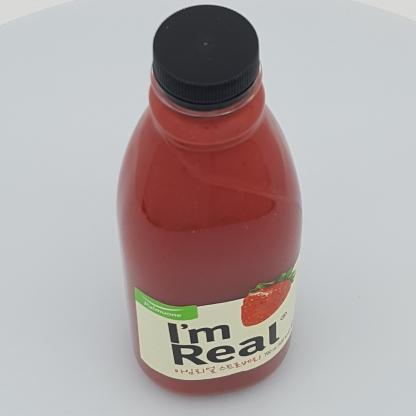--------------700ML: (116, 4, 302, 397)
